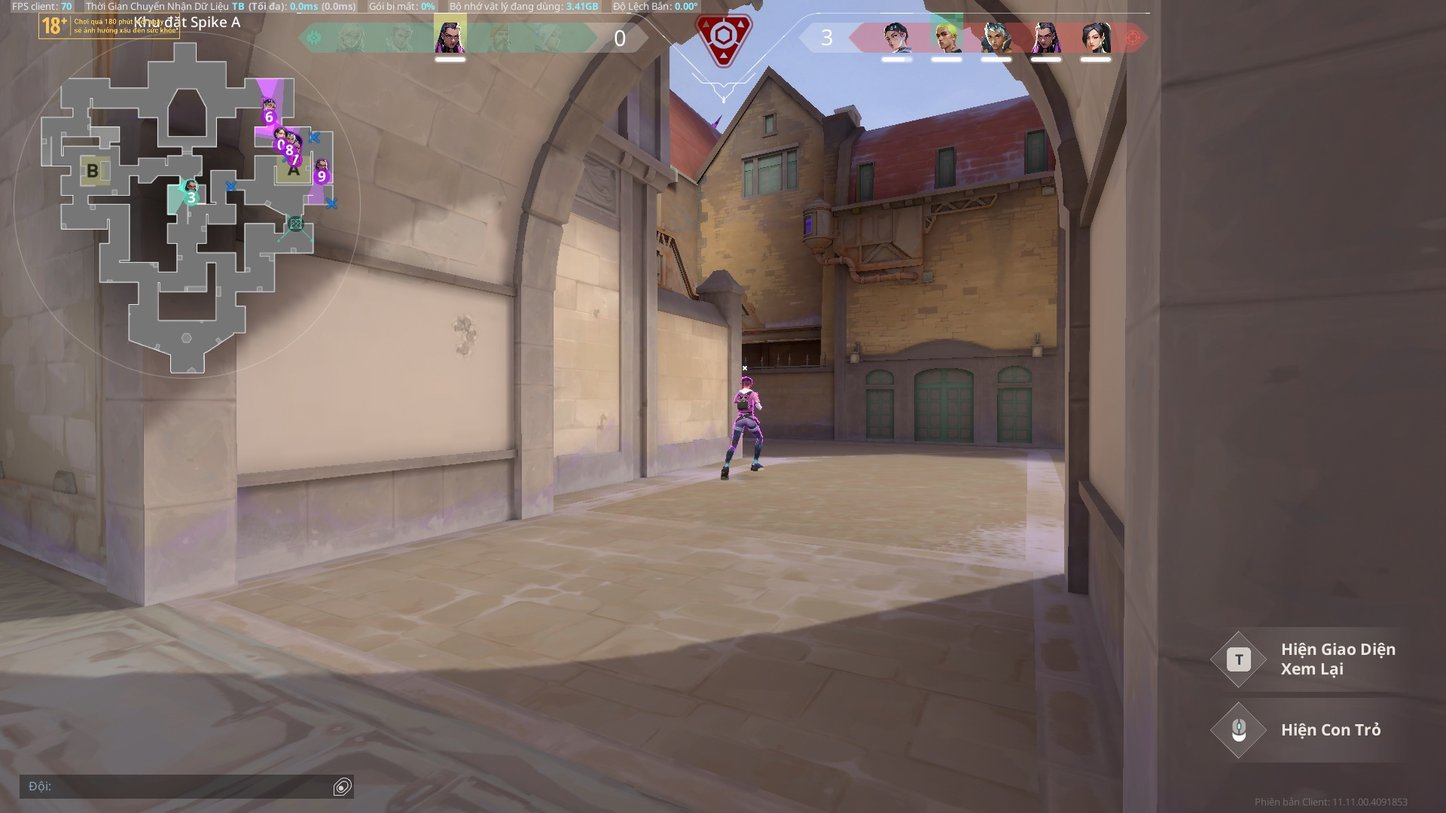body: (735, 388, 758, 414)
head: (741, 376, 755, 391)
